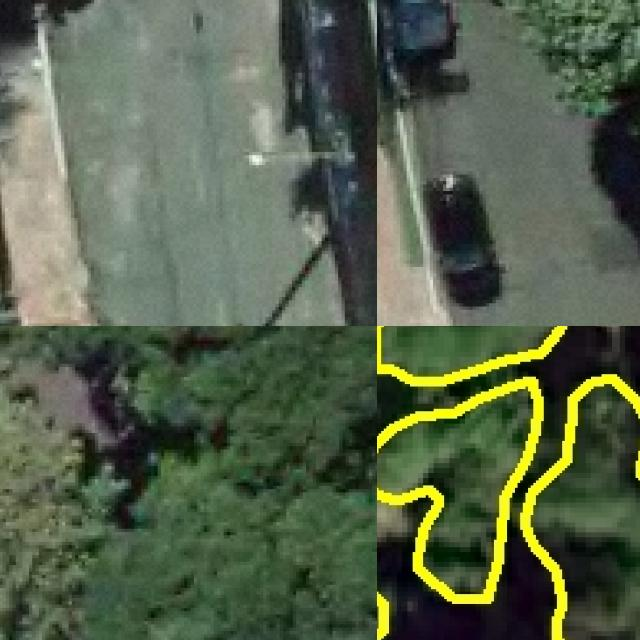trees: (4, 327, 378, 640), (378, 380, 540, 600), (524, 378, 640, 640), (1, 377, 103, 640), (507, 1, 640, 119), (378, 327, 563, 383)
